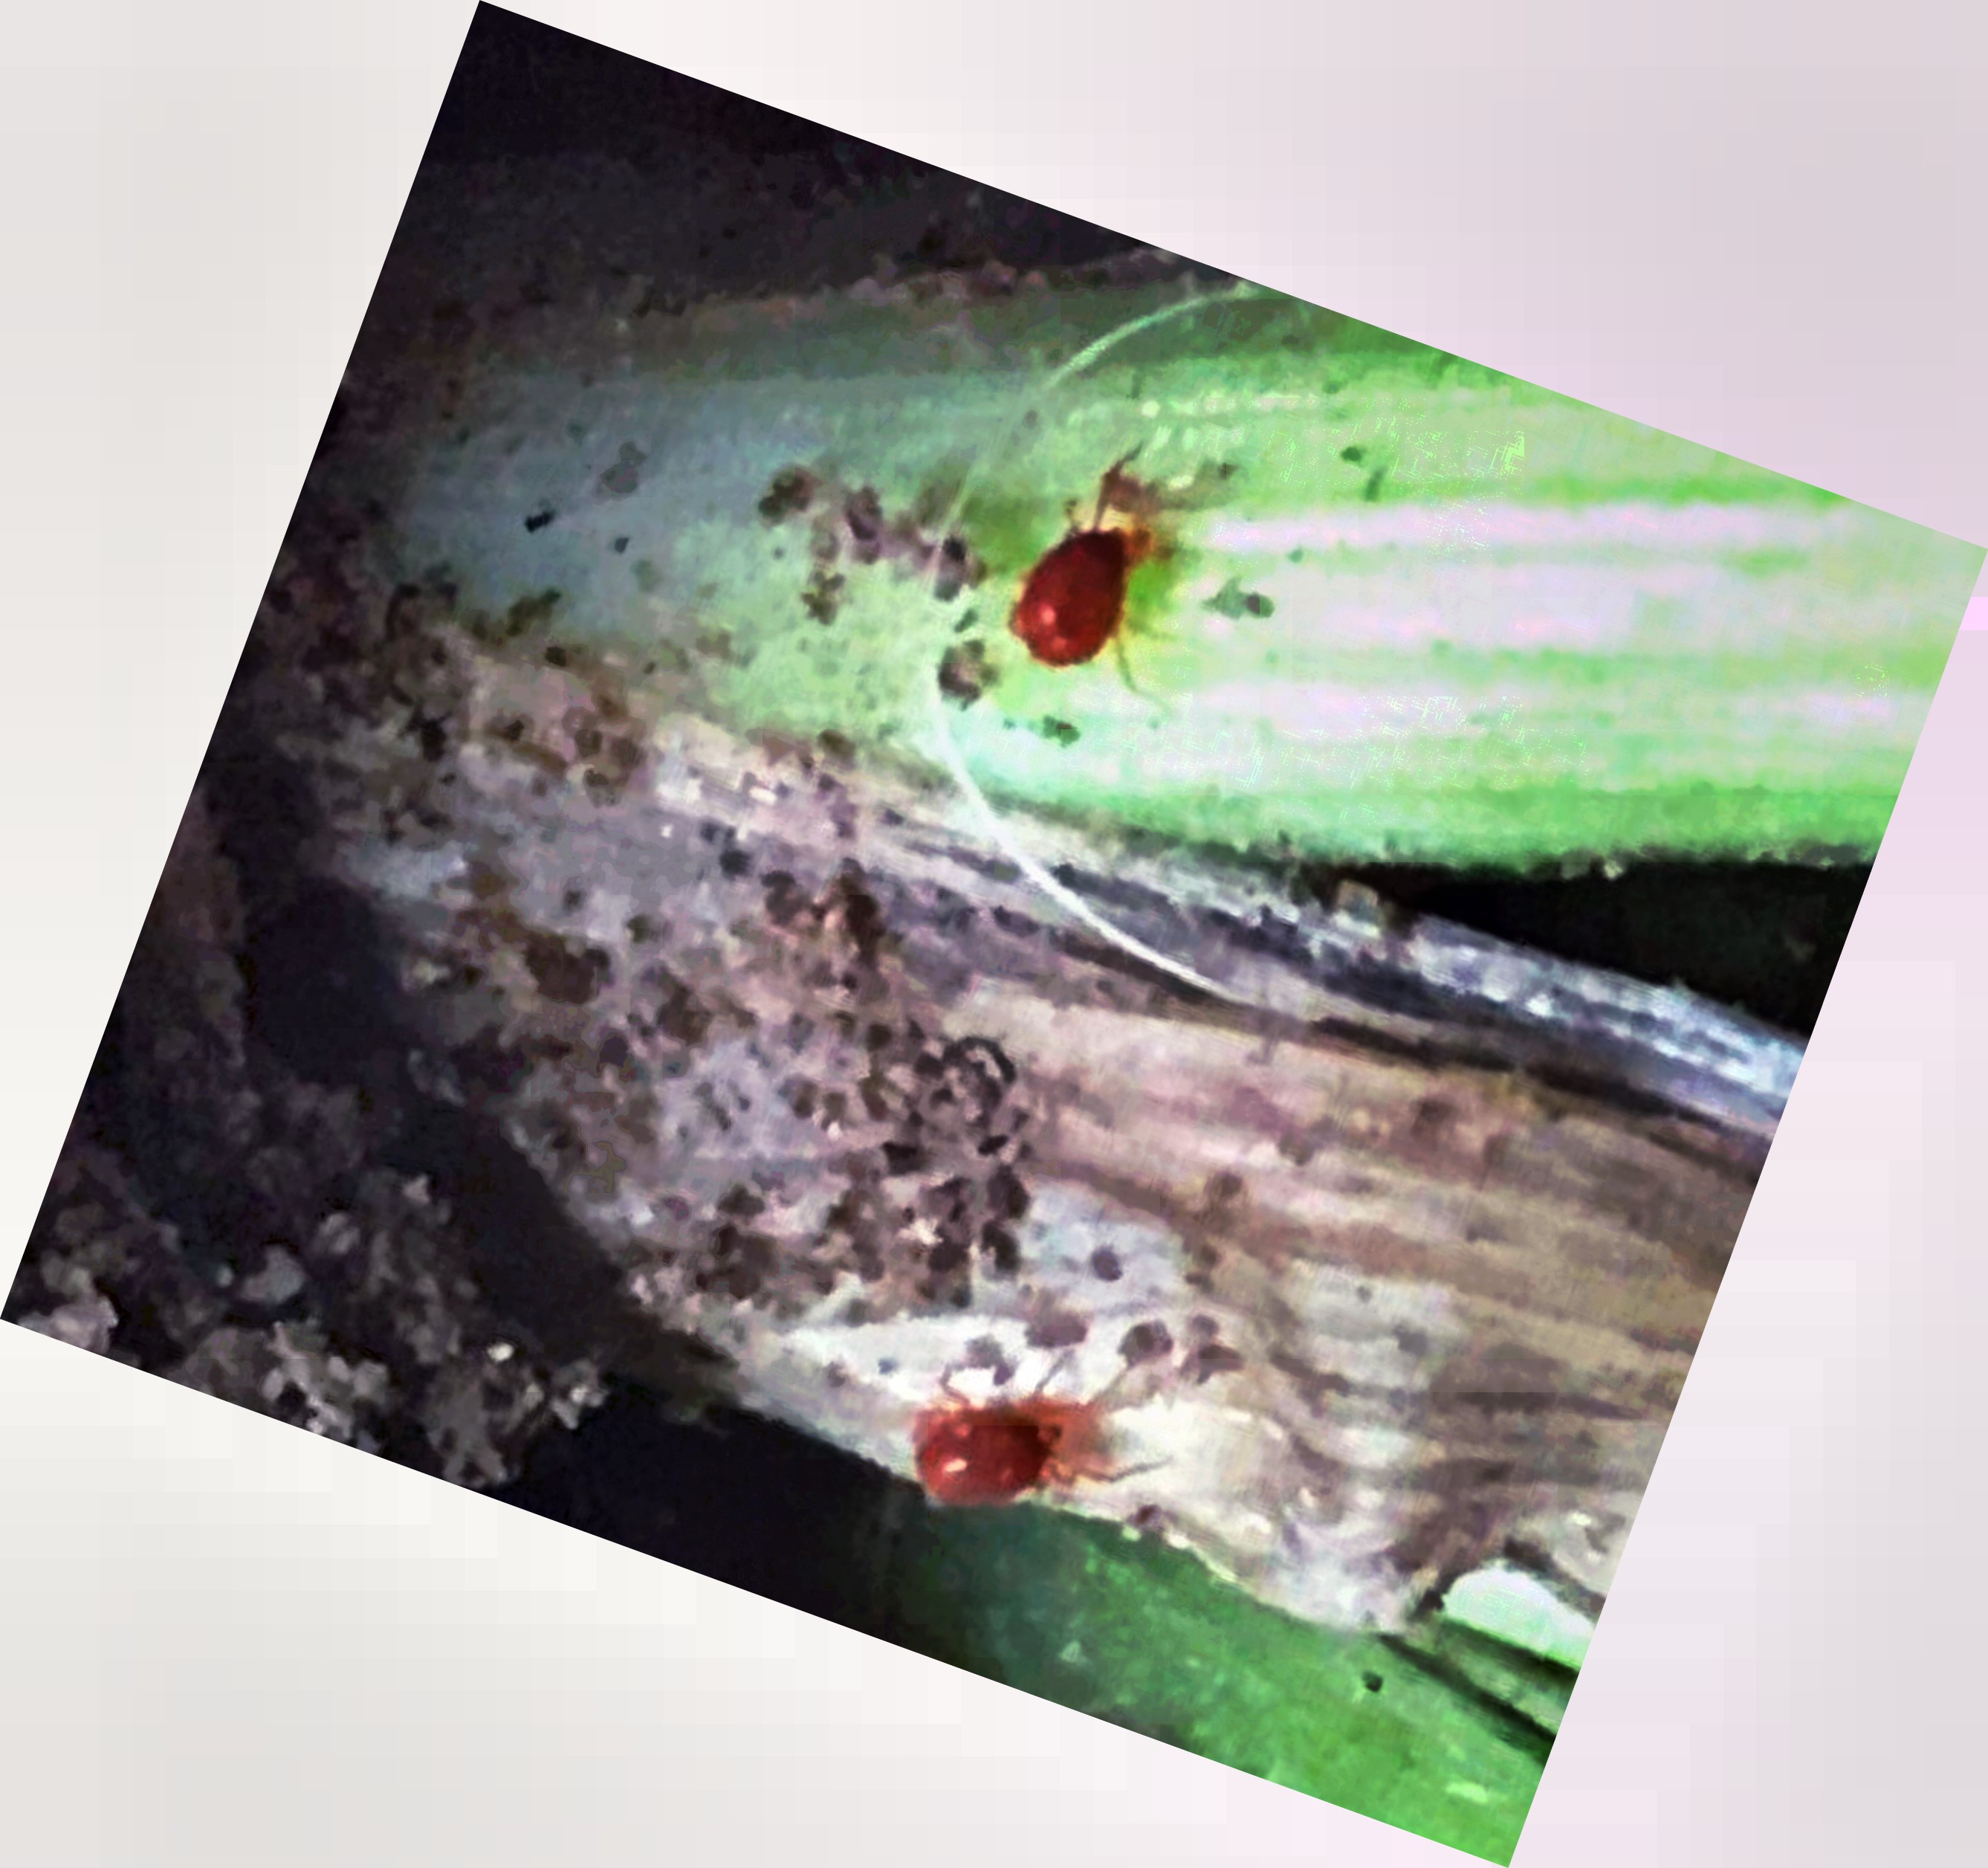Wheat Red Spider: (879, 1338, 1177, 1533)
